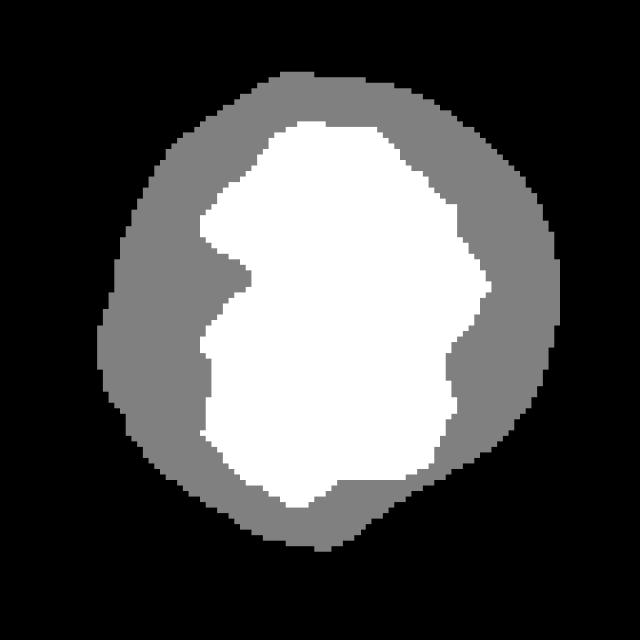WBC: (80, 50, 571, 557)
